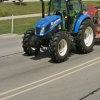Tractor: (13, 6, 98, 63)
